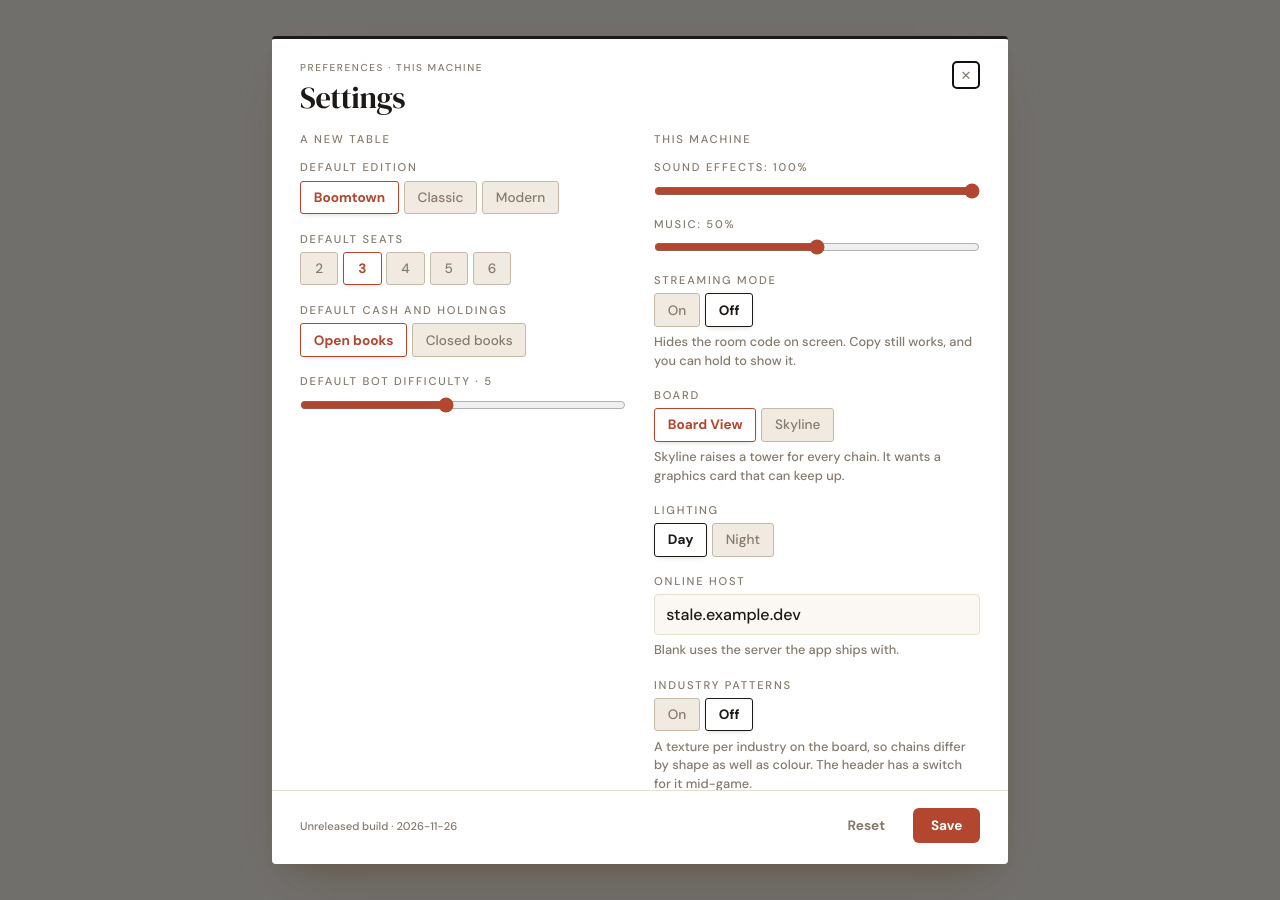
Test: SettingsDialog › Reset restores the defaults in the form
expect the field labelled "Online host" holds "stale.example.dev": met, box [654, 594, 980, 635]
What coordinates should you click on to do the following:
click the button "Reset"
I would click on:
 (866, 826)
Its box is [829, 807, 904, 844].
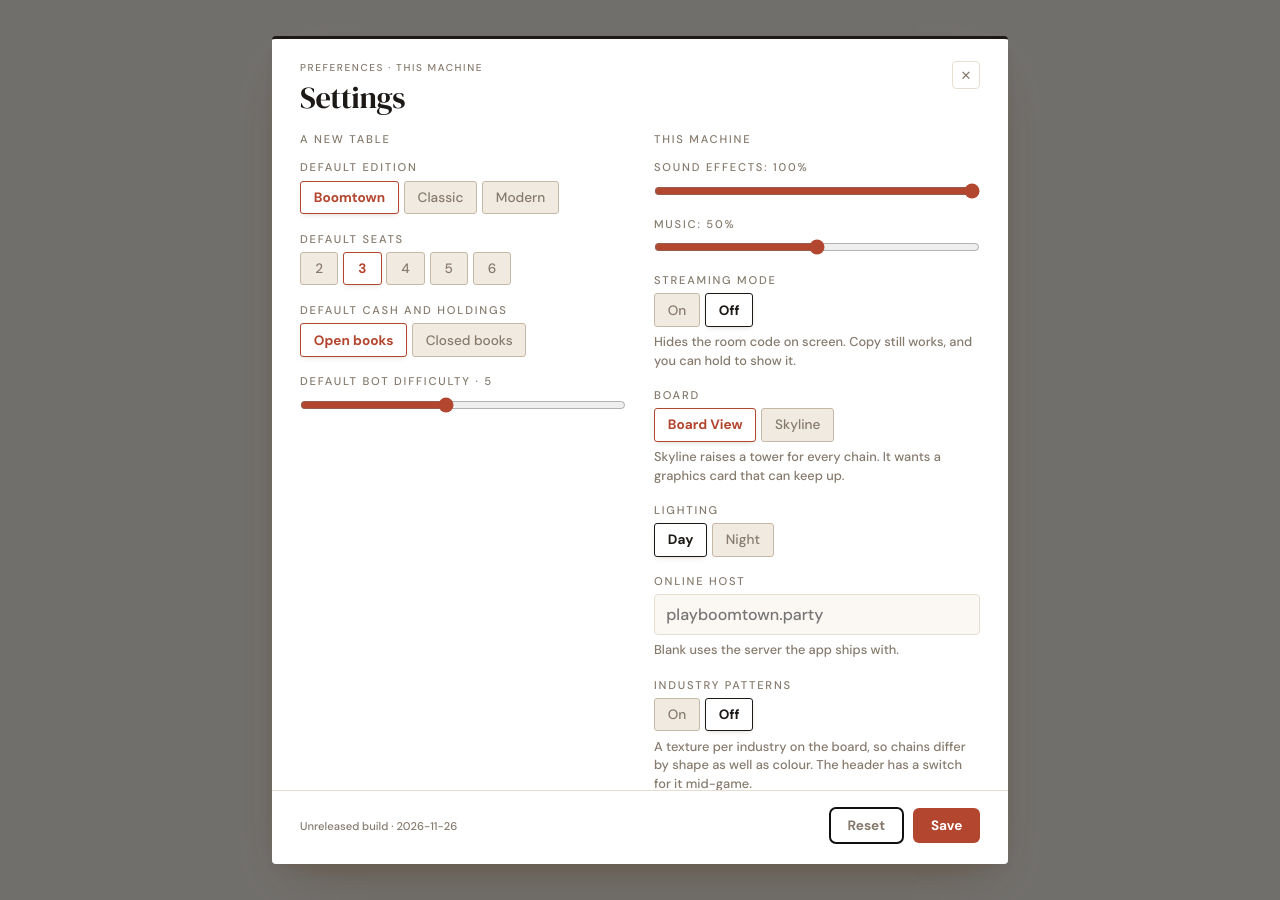
expect the field labelled "Online host" is empty: met, box [654, 594, 980, 635]
